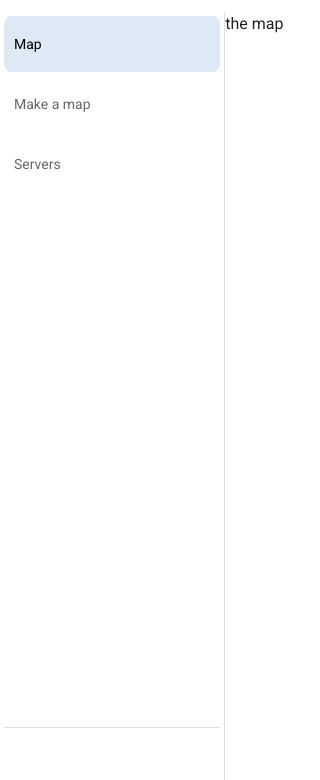
Scenario: selecting › moves selection, the panel and the tab order together on a click
Click the tab "Make a map": x=77, y=104 [14,82,140,126]
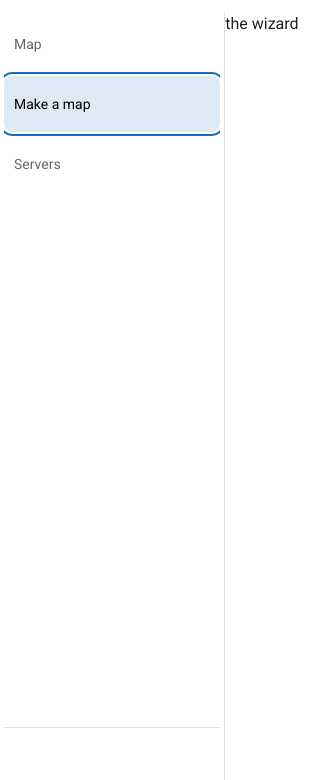
Expected: the text "the wizard" is shown, [225,14,299,33]
